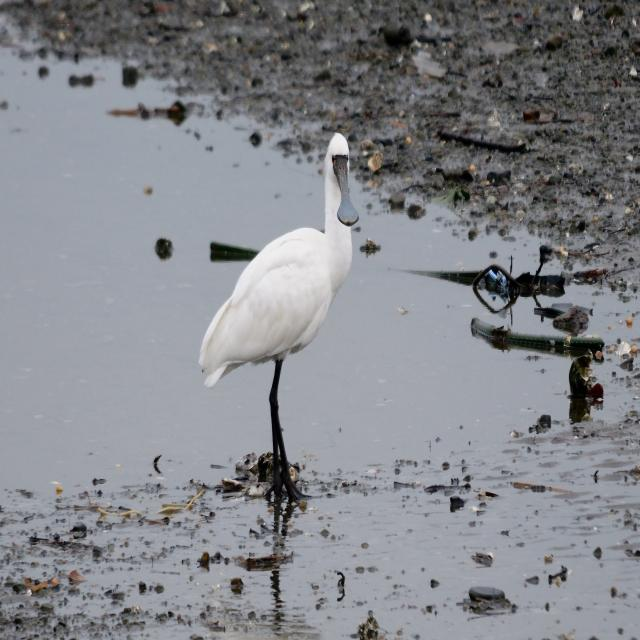Black-faced spoonbill: (200, 134, 358, 499)
